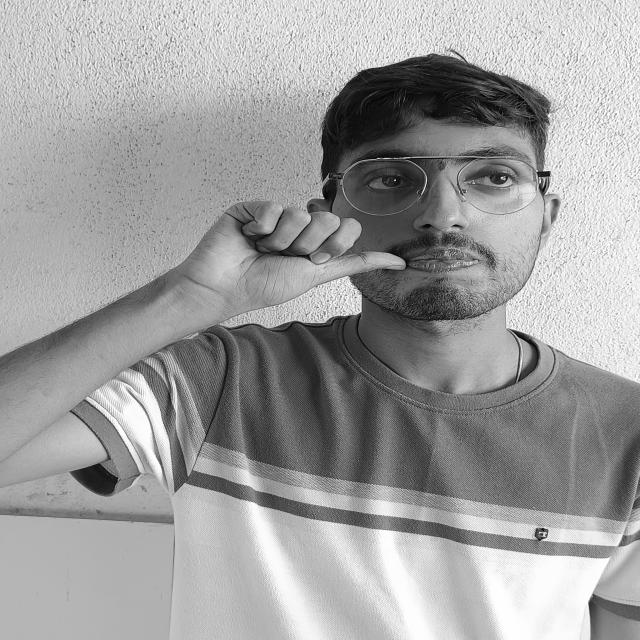Drink: (151, 184, 420, 319)
